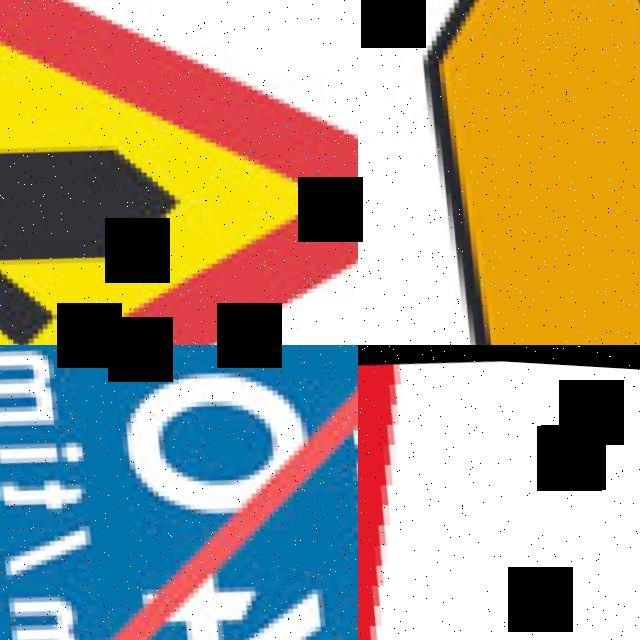103: (0, 345, 358, 640)
166: (0, 0, 358, 345)
24: (406, 0, 640, 345)
Level crossing countdown marker: (358, 345, 640, 640)
